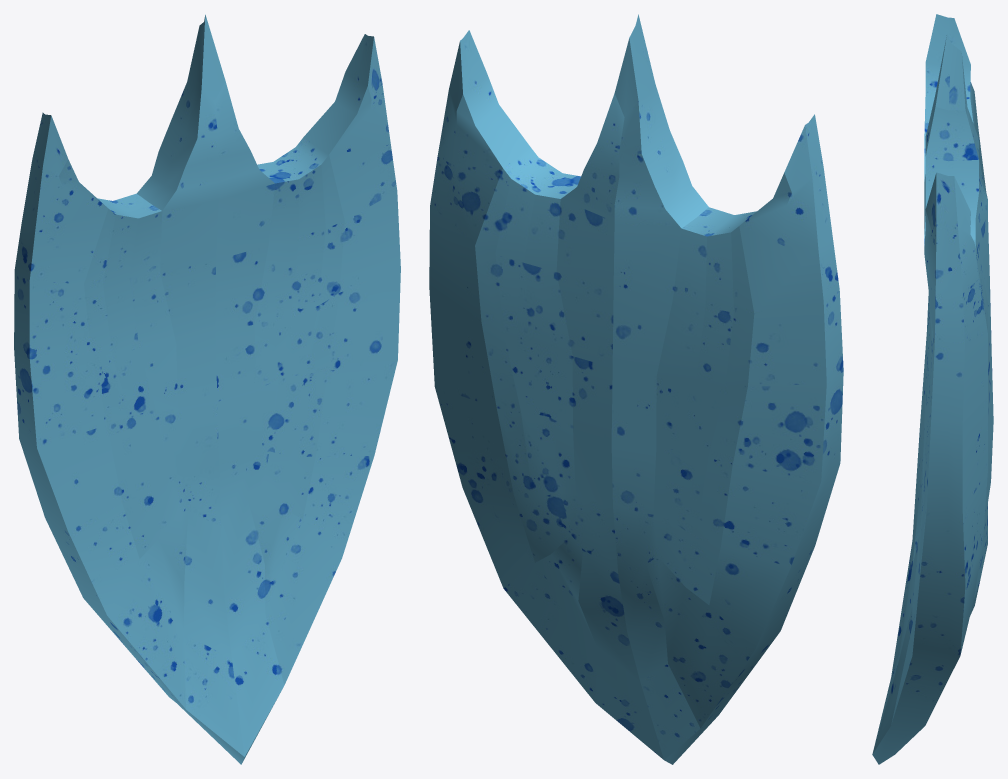
The model's file is Shield_Model.obj.
The picture shows the model from 3 angles, left to right: view 1: azimuth 30°, elevation 25°; view 2: azimuth 150°, elevation 25°; view 3: azimuth 270°, elevation 25°; orthographic projection. The views are drawn at different scales.
Visible parts, largest first — view 1: shield:RoadKillOut; view 2: shield:RoadKillOut; view 3: shield:RoadKillOut.
Part boxes in pixels (<box>): shield:RoadKillOut: <box>14,14,400,764</box>; shield:RoadKillOut: <box>429,14,843,764</box>; shield:RoadKillOut: <box>872,14,993,764</box>.
Size of the model in its own units: 6.84 by 12.79 by 1.93.
